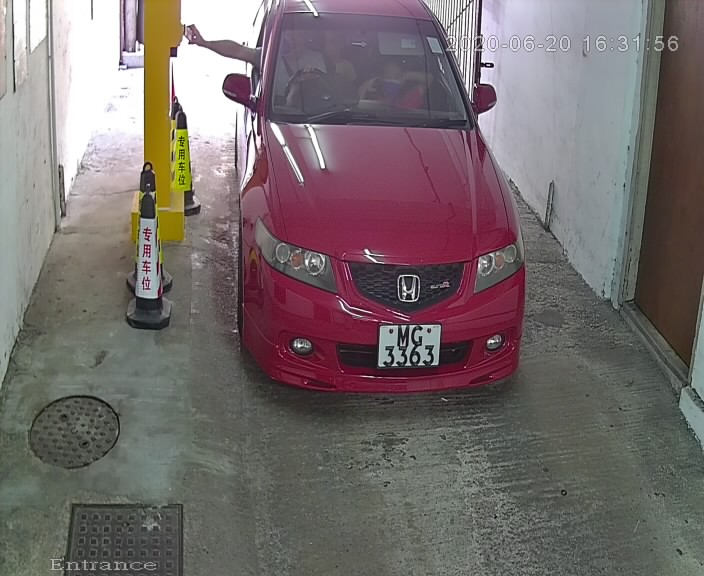privatecar: (217, 2, 536, 426)
